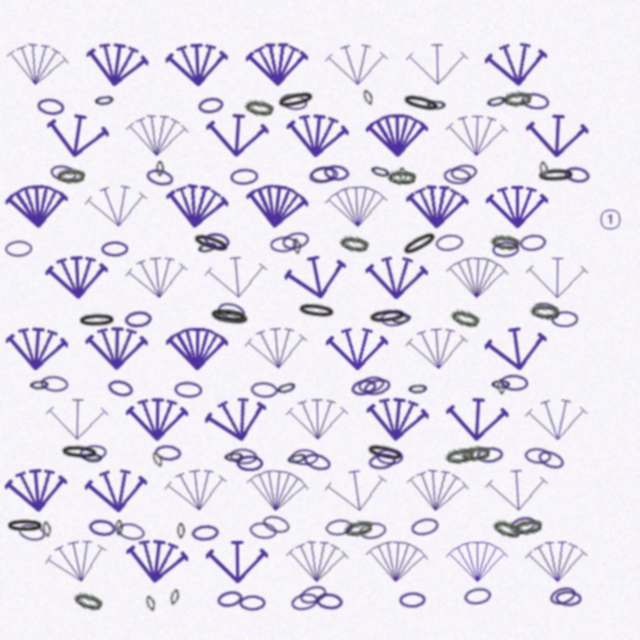chain: (399, 227, 441, 260), (190, 230, 232, 257), (400, 91, 442, 116), (275, 88, 317, 112), (364, 441, 406, 465), (210, 308, 251, 328), (208, 306, 249, 326), (296, 301, 337, 321), (367, 307, 408, 326), (59, 443, 100, 462), (491, 517, 523, 540), (536, 448, 566, 472), (216, 300, 247, 323), (449, 307, 481, 329), (342, 517, 374, 539), (72, 590, 104, 612), (261, 513, 291, 536), (298, 583, 328, 606), (548, 584, 578, 607), (536, 167, 576, 184), (77, 312, 117, 329), (531, 300, 561, 322), (362, 376, 392, 398), (302, 451, 332, 473), (508, 514, 538, 536), (444, 445, 475, 466), (512, 516, 543, 537), (5, 518, 45, 534), (116, 521, 146, 542), (410, 516, 440, 537), (460, 443, 491, 463), (49, 163, 78, 184), (145, 167, 174, 188), (281, 230, 310, 251), (106, 378, 135, 399), (357, 374, 386, 395), (17, 522, 46, 543), (290, 591, 319, 612), (520, 91, 550, 111), (350, 377, 378, 398), (279, 92, 308, 112), (308, 165, 337, 185), (463, 586, 492, 606), (244, 98, 274, 117), (502, 89, 532, 108), (339, 234, 369, 253), (563, 165, 591, 185), (203, 231, 231, 251), (216, 589, 244, 609), (36, 97, 65, 116), (435, 233, 464, 252), (358, 521, 387, 540), (490, 233, 520, 251), (197, 96, 225, 115), (450, 163, 478, 182), (519, 233, 547, 252), (368, 452, 396, 471), (88, 518, 116, 537), (249, 521, 277, 540), (325, 518, 353, 537), (368, 161, 393, 182), (274, 377, 299, 398), (40, 375, 69, 393), (443, 167, 471, 185), (124, 310, 152, 328), (380, 309, 408, 327), (250, 381, 278, 399), (79, 444, 107, 462), (154, 444, 182, 462), (476, 446, 504, 464), (524, 447, 552, 465), (191, 524, 219, 542), (315, 592, 343, 610), (484, 91, 509, 111), (195, 237, 220, 257), (56, 167, 85, 184), (229, 448, 258, 465), (323, 164, 350, 182), (285, 448, 309, 468), (230, 168, 258, 185), (174, 381, 202, 398), (500, 374, 528, 391), (387, 169, 416, 185), (530, 303, 559, 319), (311, 166, 338, 183), (5, 240, 32, 257), (270, 236, 297, 253), (492, 241, 519, 258), (376, 448, 403, 465), (555, 590, 582, 607), (390, 309, 414, 328), (101, 241, 128, 257), (551, 311, 578, 327), (236, 455, 263, 471), (291, 449, 318, 465), (239, 595, 266, 611), (399, 592, 426, 608), (93, 91, 116, 109), (425, 96, 448, 113), (28, 376, 51, 393), (407, 380, 429, 397), (82, 449, 104, 466), (223, 448, 245, 465), (490, 376, 512, 392), (151, 451, 165, 468), (362, 89, 375, 106), (145, 595, 157, 612), (169, 589, 180, 606), (398, 167, 408, 184), (539, 161, 549, 178), (292, 238, 302, 255), (42, 521, 52, 538), (497, 379, 506, 395), (156, 161, 164, 177), (115, 520, 123, 536), (177, 523, 185, 539)
fan: (202, 391, 272, 449), (42, 533, 112, 591), (282, 249, 351, 306), (43, 109, 111, 163), (83, 38, 150, 92), (483, 322, 550, 376), (323, 464, 390, 518), (163, 180, 230, 233), (243, 180, 310, 233), (163, 464, 230, 517), (123, 535, 190, 588), (4, 39, 70, 91), (284, 110, 350, 162), (124, 252, 190, 304), (244, 465, 310, 517), (404, 465, 470, 517), (364, 394, 430, 445), (484, 39, 549, 90), (84, 181, 149, 232), (204, 252, 269, 303), (244, 323, 309, 374), (4, 465, 69, 516), (4, 324, 69, 374), (84, 466, 149, 516), (364, 537, 429, 587), (405, 324, 469, 374), (205, 111, 269, 160), (5, 182, 69, 231), (45, 253, 109, 302), (445, 395, 509, 444), (485, 466, 549, 515), (165, 41, 229, 89), (125, 112, 189, 160), (525, 112, 589, 160), (405, 183, 469, 231), (445, 254, 509, 302), (285, 538, 349, 586), (325, 41, 388, 89), (445, 112, 508, 160), (325, 183, 388, 231), (365, 254, 428, 302), (525, 396, 588, 444), (525, 538, 588, 586), (85, 325, 148, 372), (246, 41, 308, 88), (406, 41, 468, 88), (366, 112, 428, 159), (46, 396, 108, 443), (126, 396, 188, 443), (286, 396, 348, 443), (486, 184, 548, 230), (526, 255, 588, 301), (166, 326, 228, 372), (326, 326, 388, 372), (206, 539, 268, 585), (446, 539, 508, 585)
noise: (598, 207, 622, 231)
